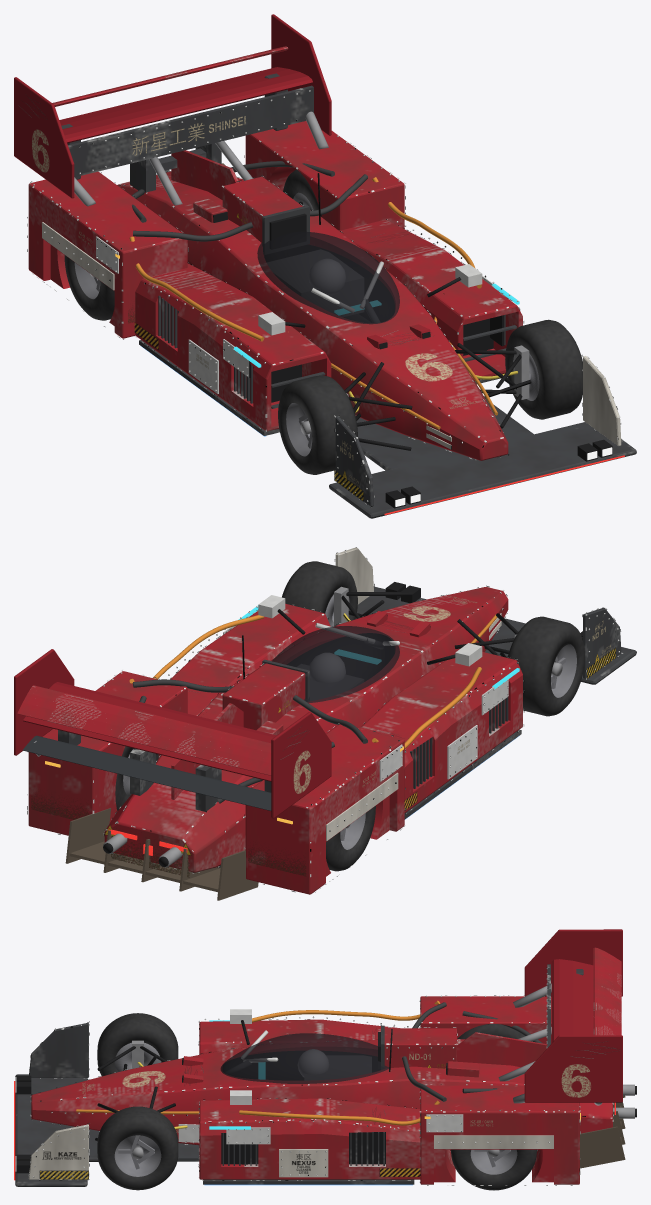
File: shinsei-nd01.glb
3 views of the same model, one above another, from view 1: azimuth 30°, elevation 25°; view 2: azimuth 150°, elevation 25°; view 3: azimuth 270°, elevation 25° (orthographic). The views are drawn at different scales.
Visible parts, largest first — view 1: Shinsei_body, Shinsei_body_Shinsei_WingPaint, Shinsei_glass_smoked_glass, Shinsei_fr, Shinsei_fl, Shinsei_interior, Shinsei_rr, Shinsei_body_decal_num6, Shinsei_flap, Shinsei_rl, Shinsei_body_decal_shinsei_wing; view 2: Shinsei_body, Shinsei_body_Shinsei_WingPaint, Shinsei_flap, Shinsei_glass_smoked_glass, Shinsei_fr, Shinsei_body_Shinsei_WingGraphite, Shinsei_fl, Shinsei_body_decal_dirt_splash, Shinsei_rr, Shinsei_interior, Shinsei_body_decal_num6, Shinsei_rl; view 3: Shinsei_body, Shinsei_body_Shinsei_WingPaint, Shinsei_glass_smoked_glass, Shinsei_fl, Shinsei_fr, Shinsei_rl, Shinsei_flap, Shinsei_interior, Shinsei_body_decal_num6, Shinsei_body_decal_hazard_stripes, Shinsei_rr, Shinsei_body_underglow_blue.
Part boxes in pixels (bbox=[...]): Shinsei_body: bbox=[27, 73, 636, 518]; Shinsei_body_Shinsei_WingPaint: bbox=[14, 14, 331, 198]; Shinsei_glass_smoked_glass: bbox=[257, 231, 399, 324]; Shinsei_fr: bbox=[278, 375, 357, 474]; Shinsei_fl: bbox=[505, 319, 582, 419]; Shinsei_interior: bbox=[267, 249, 363, 316]; Shinsei_rr: bbox=[64, 255, 114, 320]; Shinsei_body_decal_num6: bbox=[32, 129, 452, 381]; Shinsei_flap: bbox=[52, 46, 288, 106]; Shinsei_rl: bbox=[283, 169, 321, 216]; Shinsei_body_decal_shinsei_wing: bbox=[132, 116, 245, 155]; Shinsei_body: bbox=[27, 547, 636, 900]; Shinsei_body_Shinsei_WingPaint: bbox=[14, 649, 331, 818]; Shinsei_flap: bbox=[17, 685, 271, 775]; Shinsei_glass_smoked_glass: bbox=[272, 626, 399, 703]; Shinsei_fr: bbox=[507, 616, 584, 716]; Shinsei_body_Shinsei_WingGraphite: bbox=[22, 735, 271, 810]; Shinsei_fl: bbox=[282, 561, 357, 626]; Shinsei_body_decal_dirt_splash: bbox=[31, 794, 306, 877]; Shinsei_rr: bbox=[326, 806, 375, 871]; Shinsei_interior: bbox=[297, 653, 363, 700]; Shinsei_body_decal_num6: bbox=[293, 606, 450, 793]; Shinsei_rl: bbox=[115, 746, 158, 810]; Shinsei_body: bbox=[15, 964, 636, 1186]; Shinsei_body_Shinsei_WingPaint: bbox=[524, 929, 622, 1102]; Shinsei_glass_smoked_glass: bbox=[220, 1033, 388, 1083]; Shinsei_fl: bbox=[97, 1106, 178, 1190]; Shinsei_fr: bbox=[97, 1013, 178, 1076]; Shinsei_rl: bbox=[451, 1149, 536, 1190]; Shinsei_flap: bbox=[593, 947, 621, 1035]; Shinsei_interior: bbox=[298, 1049, 371, 1080]; Shinsei_body_decal_num6: bbox=[122, 1064, 591, 1097]; Shinsei_body_decal_hazard_stripes: bbox=[39, 1168, 420, 1179]; Shinsei_rr: bbox=[457, 1024, 524, 1039]; Shinsei_body_underglow_blue: bbox=[204, 1184, 412, 1185].
Size of the model in its own units: 2.28 by 1.42 by 5.08.
Materials: 28 (20 with a texture image).
